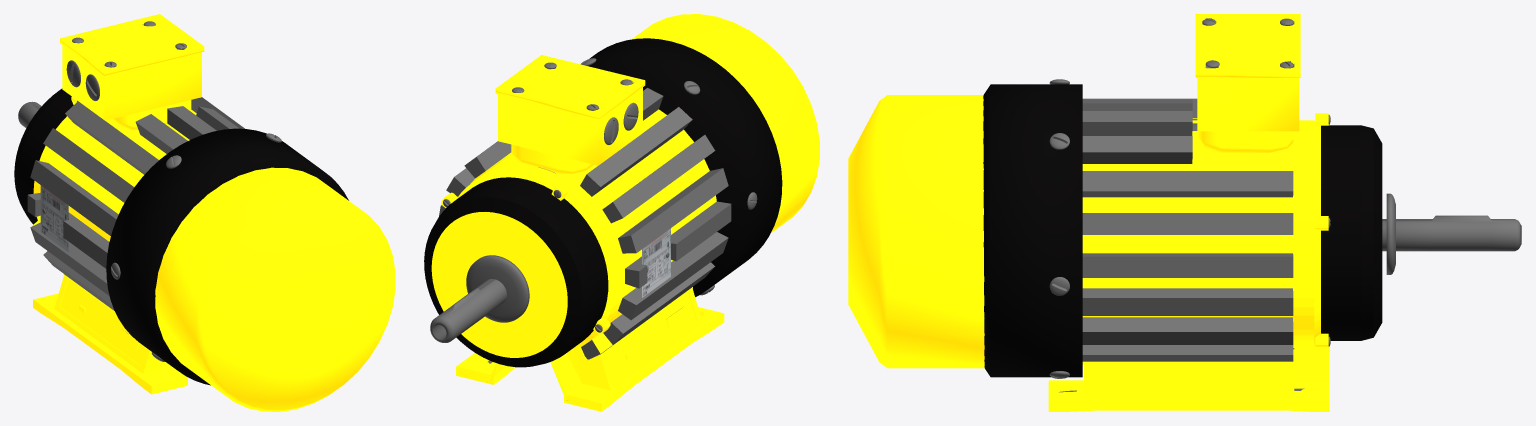
Rendered from electric_motor.fbx.
The picture shows the model from 3 angles, left to right: view 1: azimuth 30°, elevation 25°; view 2: azimuth 150°, elevation 25°; view 3: azimuth 270°, elevation 25°; orthographic projection. The views are drawn at different scales.
Visible parts, largest first — view 1: engine body; view 2: engine body; view 3: engine body.
Part boxes in pixels (<box>): engine body: <box>14,14,395,411</box>; engine body: <box>424,14,819,411</box>; engine body: <box>848,14,1521,411</box>.
Bounding box in the file's own units: 3.23 × 3.87 × 7.23.
4 materials, 1 textured.
